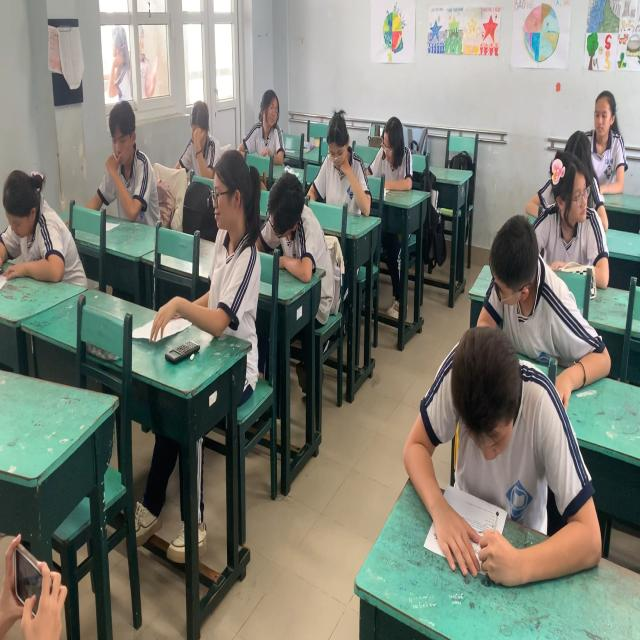cheating: (476, 212, 585, 382), (208, 153, 262, 347), (544, 150, 612, 285), (243, 91, 291, 170)
not_cheating: (416, 329, 585, 554), (0, 143, 79, 287), (314, 101, 369, 236), (95, 102, 156, 222), (264, 167, 316, 267), (367, 91, 414, 201), (583, 84, 626, 201), (177, 91, 216, 178)
